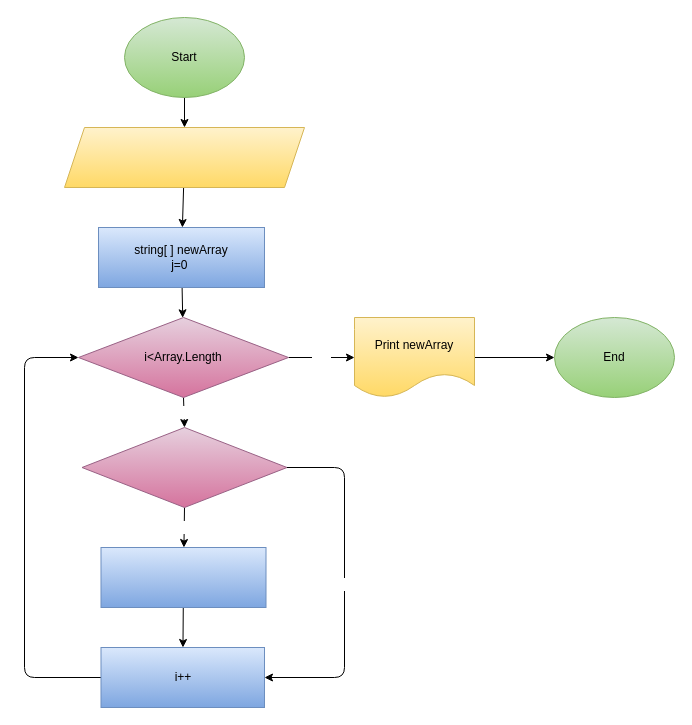
Image size: 692x725. Some labels were removed from this diagram. The centre of each missing label's shape, as x and y in pixels:
Array[i].Length<4: point (184, 467)
newArray[j]=Array[i] j++: point (183, 577)
string[ ] Array: point (184, 157)
